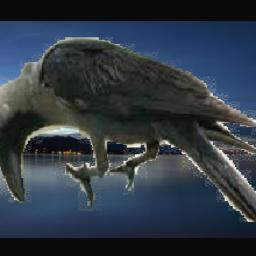Crow: (0, 37, 256, 222)
